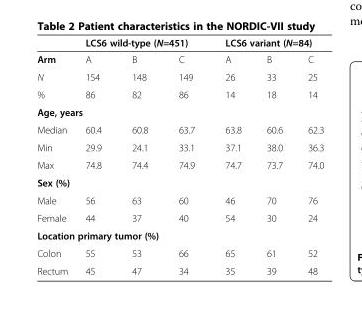table: (36, 36, 323, 276)
table column: (162, 36, 209, 276), (116, 36, 162, 276), (209, 36, 253, 276), (75, 36, 116, 276), (253, 36, 294, 276), (36, 36, 75, 276), (294, 36, 323, 276)
table column header: (36, 36, 323, 67)
table projected row header: (36, 102, 323, 120), (36, 173, 323, 191), (36, 226, 323, 244)
table row: (36, 67, 323, 85), (36, 102, 323, 120), (36, 120, 323, 138), (36, 155, 323, 173), (36, 173, 323, 191), (36, 208, 323, 226), (36, 226, 323, 244), (36, 50, 323, 67), (36, 85, 323, 102), (36, 138, 323, 155), (36, 191, 323, 208), (36, 244, 323, 261), (36, 261, 323, 276), (36, 36, 323, 50)
table spanning cell: (75, 36, 209, 50), (209, 36, 323, 50), (36, 36, 75, 67)
